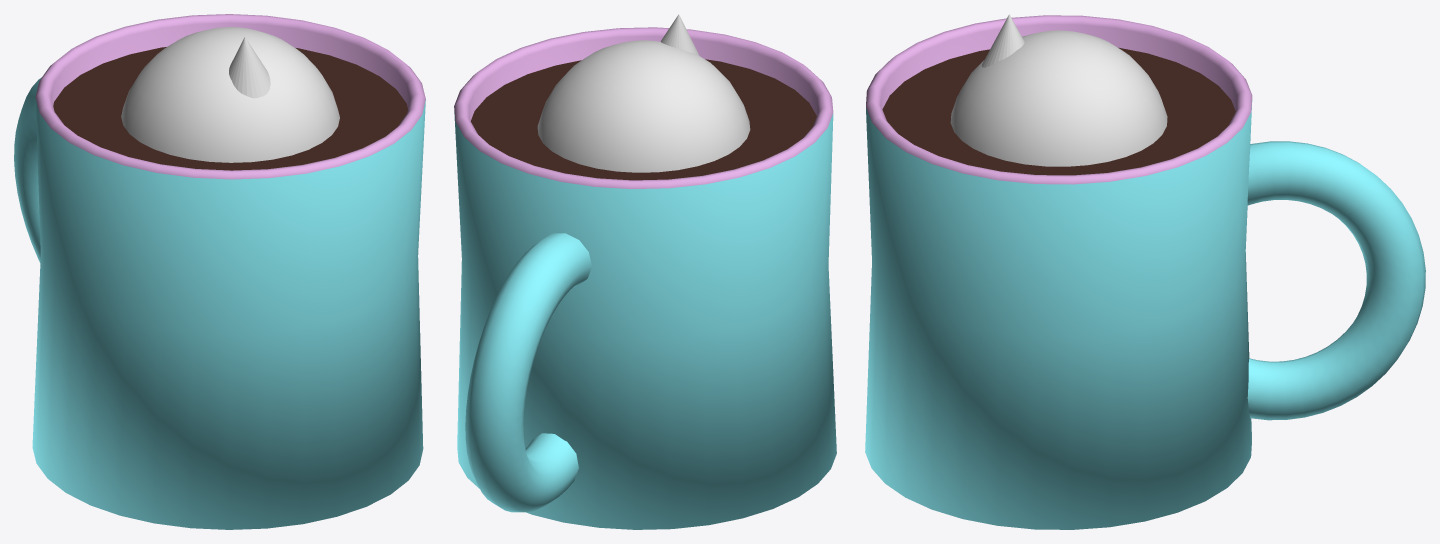
Rendered from nekomag.glb.
3 renders of one model, left to right at view 1: azimuth 30°, elevation 25°; view 2: azimuth 150°, elevation 25°; view 3: azimuth 270°, elevation 25°, orthographic. The views are drawn at different scales.
Parts seen in each view (by area): view 1: 円柱, 球, 円柱.001, トーラス.001, 円錐; view 2: 円柱, 球, トーラス.001, 円柱.001, 円錐; view 3: 円柱, トーラス.001, 球, 円柱.001, 円錐.
Boxes of the visible parts, x1=… form: 円柱: x1=32, y1=14, x2=425, y2=529; 球: x1=121, y1=27, x2=339, y2=162; 円柱.001: x1=53, y1=47, x2=407, y2=170; トーラス.001: x1=14, y1=77, x2=41, y2=262; 円錐: x1=229, y1=37, x2=270, y2=98; 円柱: x1=454, y1=27, x2=836, y2=529; 球: x1=537, y1=40, x2=750, y2=172; トーラス.001: x1=465, y1=233, x2=591, y2=512; 円柱.001: x1=470, y1=59, x2=816, y2=180; 円錐: x1=660, y1=14, x2=699, y2=55; 円柱: x1=865, y1=15, x2=1252, y2=529; トーラス.001: x1=1247, y1=141, x2=1425, y2=420; 球: x1=950, y1=30, x2=1167, y2=166; 円柱.001: x1=882, y1=47, x2=1235, y2=175; 円錐: x1=982, y1=14, x2=1024, y2=67.
Bounding box in the file's own units: 2.01 × 2.45 × 2.89.
